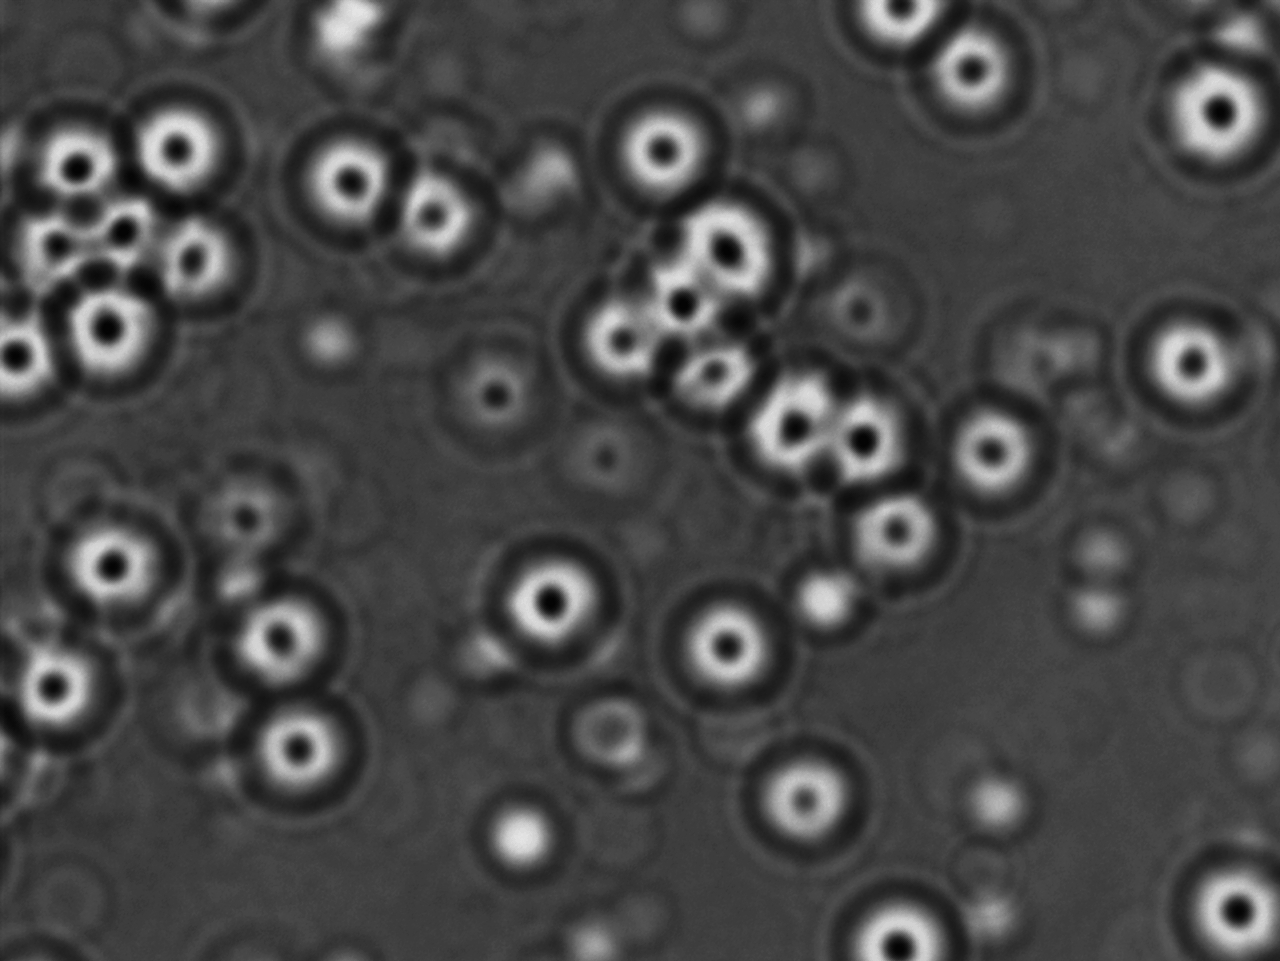depth:24: (1125, 282, 1270, 438), (653, 573, 799, 710), (236, 683, 376, 826), (483, 532, 628, 668), (46, 491, 185, 632), (110, 78, 255, 212), (33, 266, 178, 397), (1151, 41, 1278, 181), (929, 387, 1071, 510), (141, 190, 272, 323), (282, 117, 413, 248), (598, 83, 730, 213), (218, 576, 362, 696), (908, 10, 1043, 131), (20, 98, 159, 215), (732, 352, 855, 484), (804, 368, 928, 498), (361, 153, 488, 272), (624, 235, 747, 351), (1166, 836, 1280, 961), (836, 856, 970, 961), (668, 186, 786, 304)
